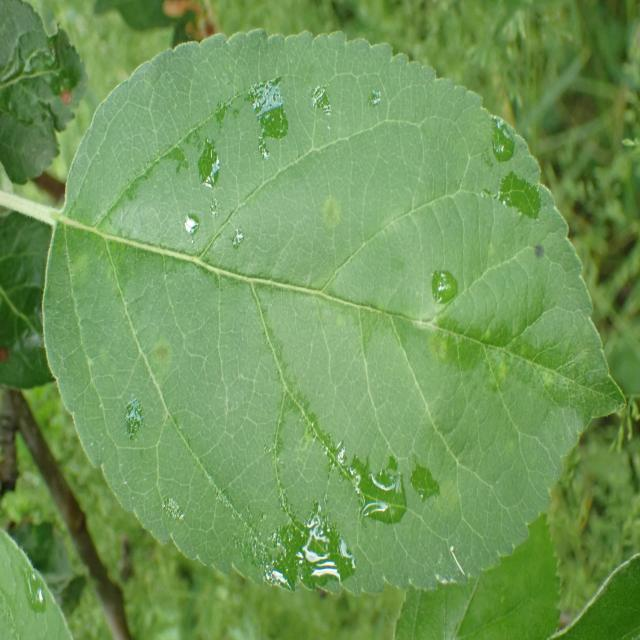scab: (75, 180, 566, 501)
